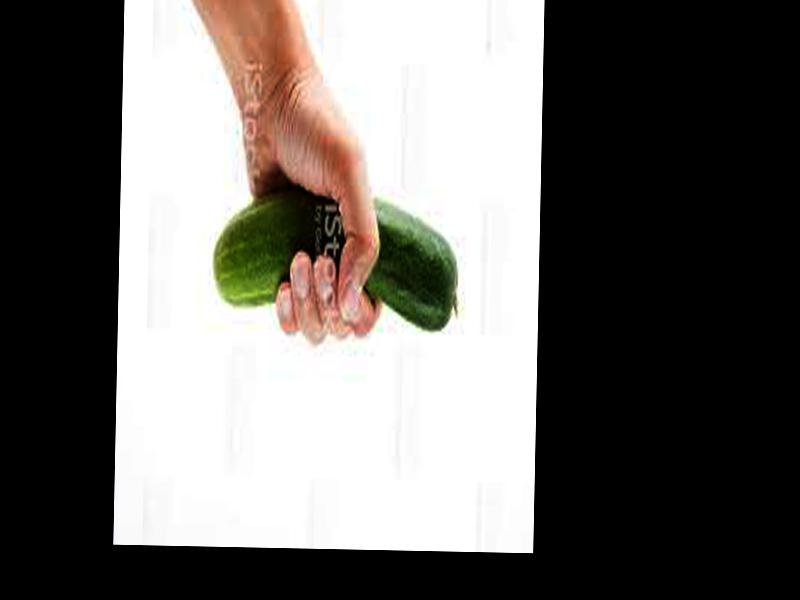Cucumber: (213, 185, 459, 334)
